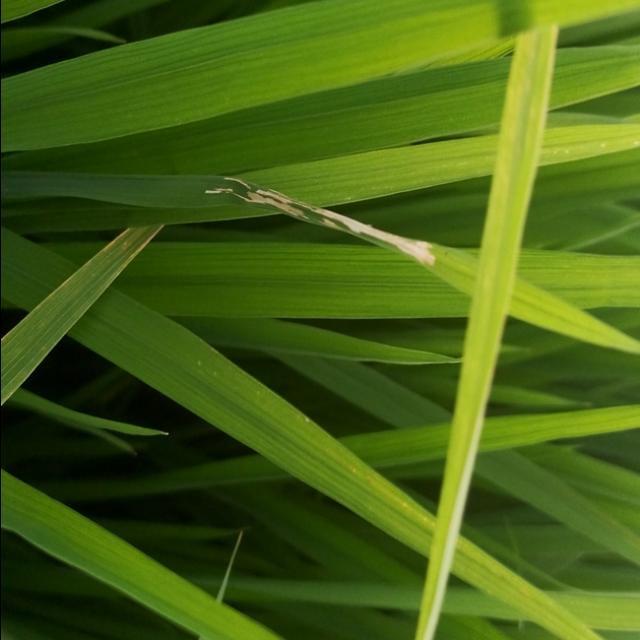brown plant hopper: (205, 163, 440, 280)
